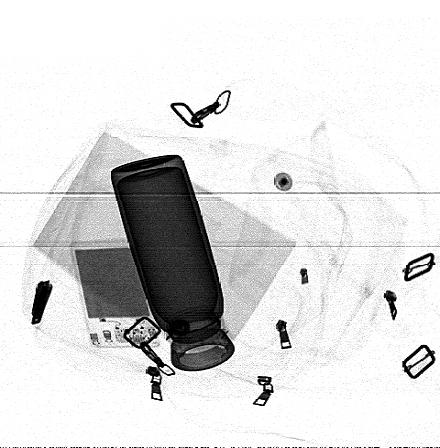Powerbank: (70, 242, 162, 349)
